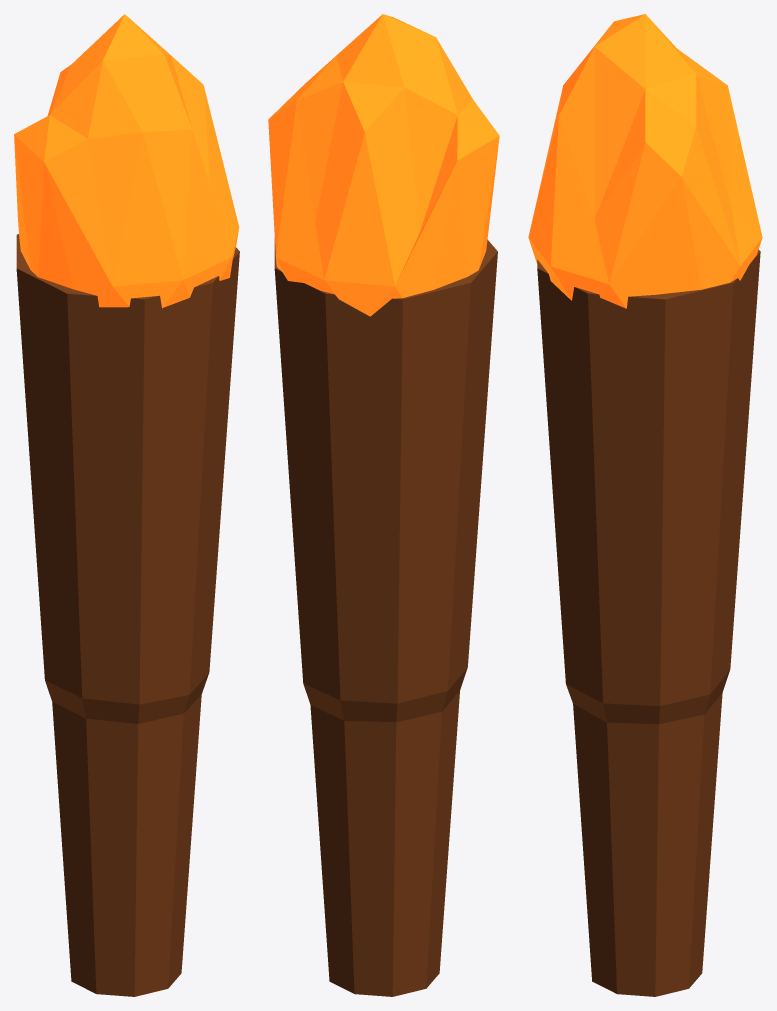
File: Torch.glb
3 renders of one model, left to right at view 1: azimuth 30°, elevation 25°; view 2: azimuth 150°, elevation 25°; view 3: azimuth 270°, elevation 25°, orthographic.
Parts seen in each view (by area): view 1: Cylinder, Icosphere; view 2: Cylinder, Icosphere; view 3: Cylinder, Icosphere.
Boxes of the visible parts, box(x1,y1,x2,y2) form: Cylinder: box(16, 234, 239, 996); Icosphere: box(14, 14, 239, 308); Cylinder: box(274, 238, 497, 996); Icosphere: box(268, 14, 499, 316); Cylinder: box(537, 249, 760, 996); Icosphere: box(528, 14, 762, 308).
Bounding box in the file's own units: 0.8505 × 3.96 × 0.8758.
